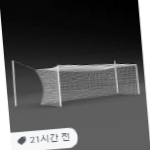goals: (36, 62, 142, 110)
